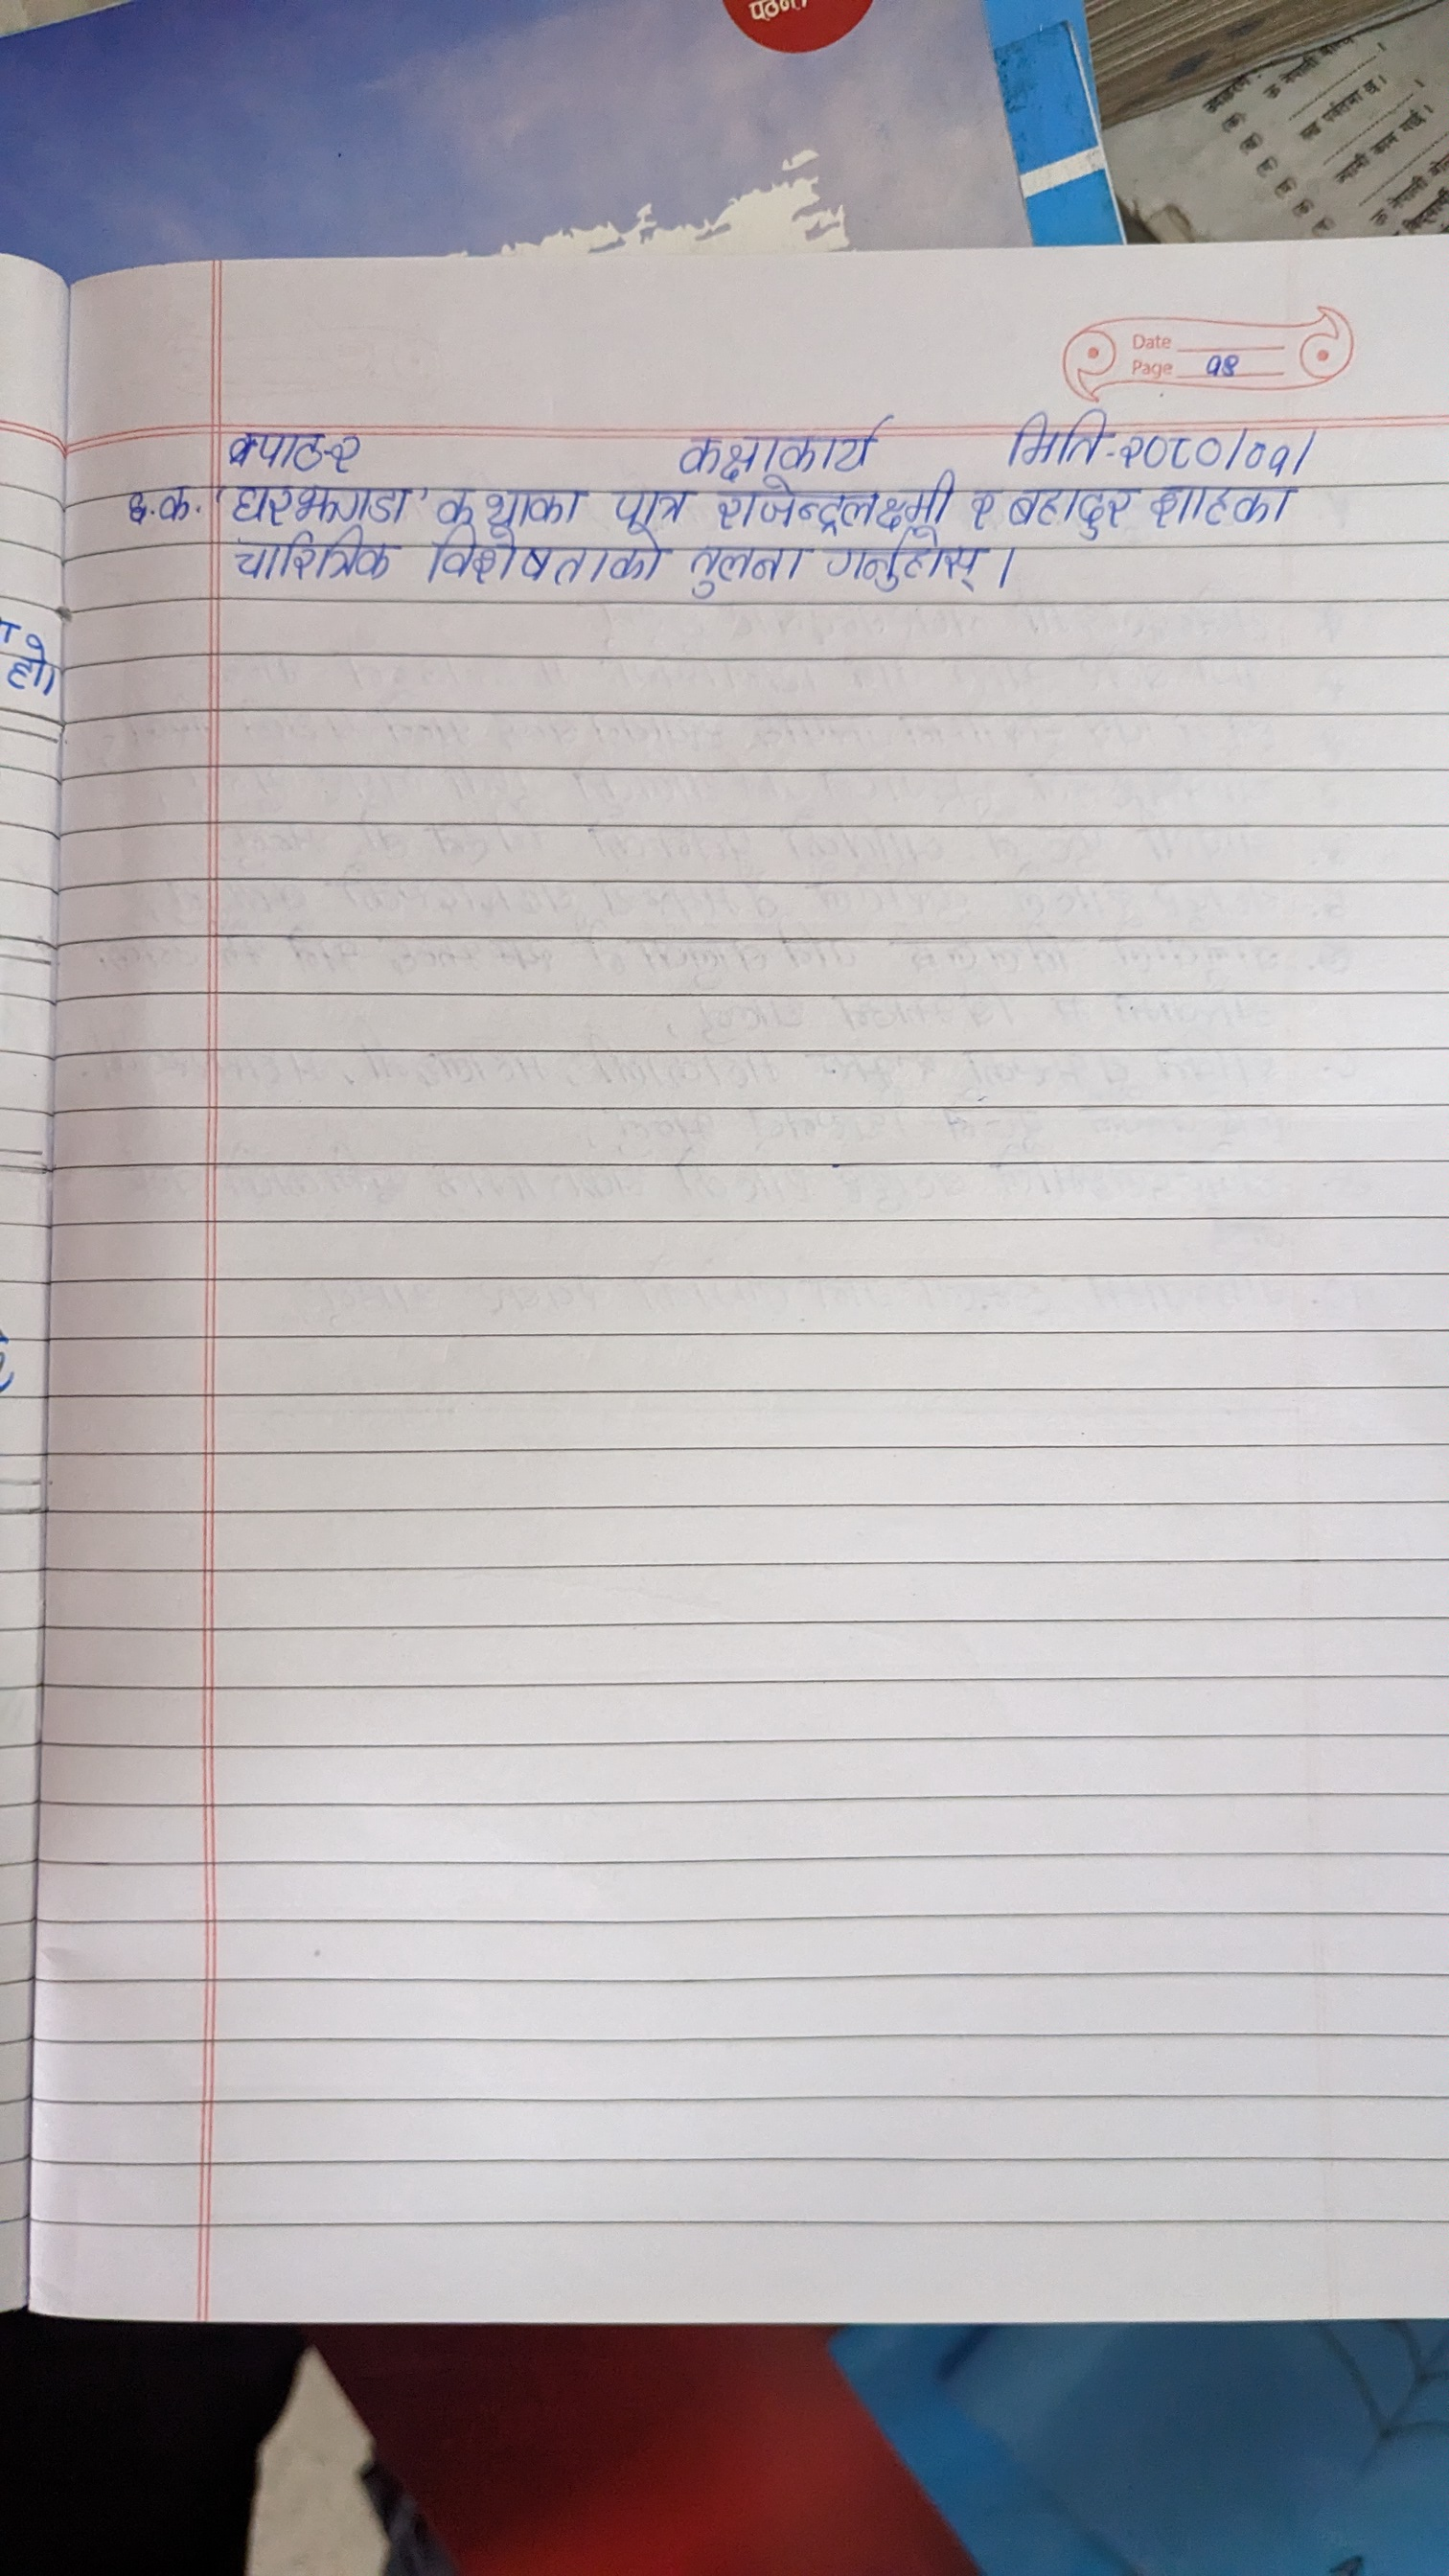text: (655, 398, 890, 476), (421, 527, 667, 594), (708, 478, 957, 524), (817, 531, 985, 596), (223, 527, 400, 587), (1148, 481, 1292, 534), (230, 481, 410, 522), (1001, 395, 1102, 467), (1007, 479, 1131, 538), (683, 547, 809, 602), (435, 478, 579, 525), (1113, 418, 1224, 472), (614, 479, 690, 525), (257, 428, 327, 467), (1238, 430, 1292, 469), (331, 425, 372, 471), (122, 479, 154, 533), (157, 478, 191, 524), (968, 481, 996, 531), (1198, 352, 1247, 375)
